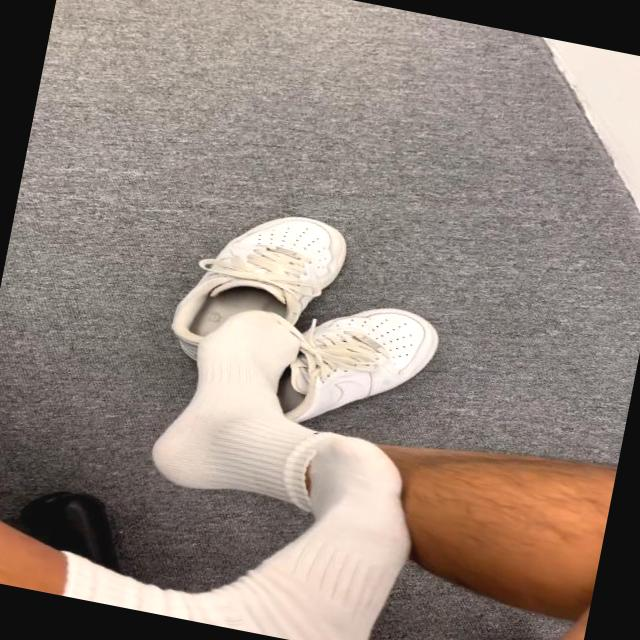nike_original_airforce: (166, 192, 364, 382), (264, 288, 454, 451)
